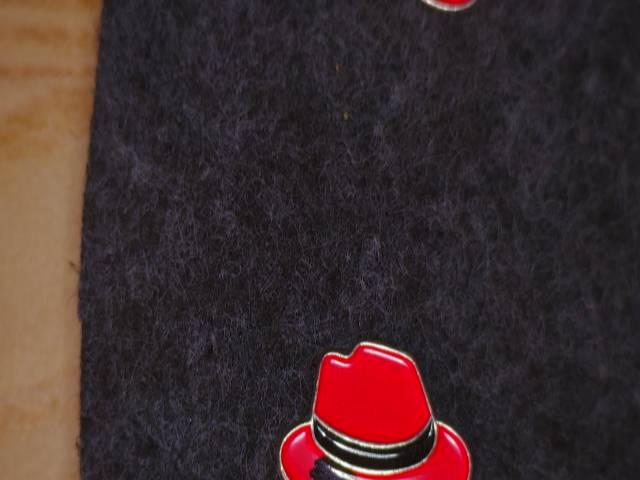Red-Hat: (241, 322, 493, 480)
Scratch: (303, 441, 365, 480)
